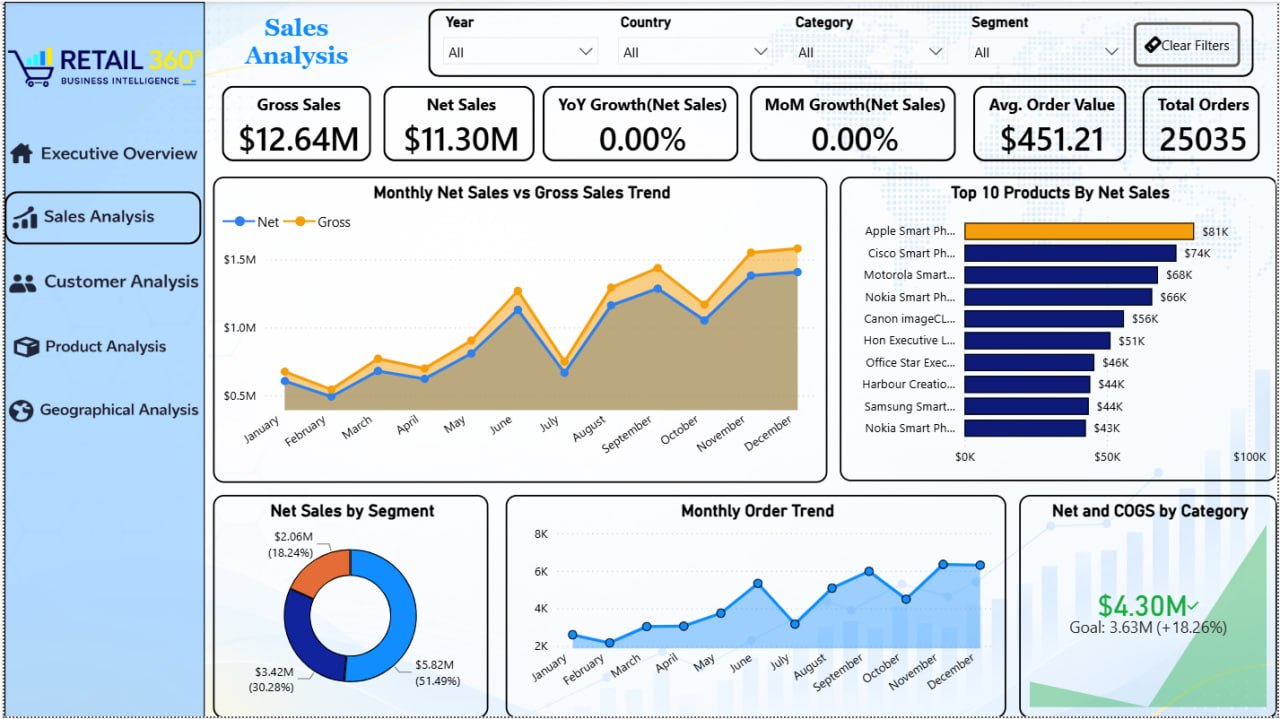

Layout of this report page (visuals, bound fields, positions):
{"tool":"powerbi","page":{"name":"Sales Analysis","canvas":[1280,720],"ordinal":1},"visuals":[{"type":"shape","box":[0,0,201.3,720],"z":1000},{"type":"shape","box":[0,190.5,198,53.6],"z":1500},{"type":"image","box":[0,13.7,201.3,105.8],"z":2000},{"type":"image","box":[-0.3,120.5,201.3,64.7],"z":3000},{"type":"image","box":[-0.3,185.1,201.3,64.7],"z":4000},{"type":"image","box":[-0.3,249.8,201.3,64.7],"z":5000},{"type":"image","box":[-0.3,379.1,201.3,64.7],"z":6000},{"type":"image","box":[-0.3,314.4,201.3,64.7],"z":7000},{"type":"cardVisual","fields":{"Data":["Measure_Table.Gross"]},"box":[201.6,67.2,184.8,110],"z":8000},{"type":"cardVisual","fields":{"Data":["Measure_Table.Net"]},"box":[364.4,67.6,186.6,110],"z":9000},{"type":"cardVisual","fields":{"Data":["Measure_Table.Net Sales YoY%"]},"box":[524.1,67.2,231.8,110],"z":10000},{"type":"cardVisual","fields":{"Data":["Measure_Table.Total Orders"]},"box":[1127.1,67.2,152.9,110],"z":11000},{"type":"cardVisual","fields":{"Data":["Measure_Table.Avg_order_value"]},"box":[957.5,67.2,188.1,110],"z":12000},{"type":"cardVisual","fields":{"Data":["Measure_Table.MoM Growth"]},"box":[732.4,67.2,241.9,110],"z":13000},{"type":"shape","box":[425.5,6.8,829.8,68.9],"z":14000},{"type":"slicer","fields":{"Values":["Customer.Country"]},"box":[606.7,6.8,176.4,68.9],"z":15000},{"type":"slicer","fields":{"Values":["DateTable.Year"]},"box":[430.7,6.8,176.3,57.3],"z":16000},{"type":"slicer","fields":{"Values":["Product.Category"]},"box":[782.7,6.8,176.4,68.9],"z":17000},{"type":"slicer","fields":{"Values":["Customer.Segment"]},"box":[958.7,6.8,176.4,68.9],"z":18000},{"type":"actionButton","box":[1134.7,20.5,107.5,45.4],"z":19000},{"type":"lineChart","title":"Monthly Net Sales vs Gross Sales Trend","fields":{"Category":["DateTable.Month Name"],"Y":["Measure_Table.Net","Measure_Table.Gross"]},"box":[210,176.4,618,308.1],"z":20000},{"type":"clusteredBarChart","title":"Top 10 Products By Net Sales","fields":{"Category":["Product.Product Name"],"Y":["Measure_Table.Net"]},"box":[839.9,176.4,440.2,306.4],"z":21000},{"type":"kpi","fields":{"Indicator":["Measure_Table.Net"],"Goal":["Measure_Table.COGS"],"TrendLine":["Product.Category"]},"box":[1019.6,495.5,260.4,225.1],"z":22000},{"type":"donutChart","title":"Net Sales by Segment","fields":{"Y":["Measure_Table.Net"],"Category":["Customer.Segment"],"Series":["Customer.Segment"]},"box":[210,495.5,277.2,225],"z":23000},{"type":"lineChart","title":"Monthly Order Trend","fields":{"Category":["DateTable.Month Name"],"Y":["Measure_Table.Orders"]},"box":[503.9,495.5,503.5,225],"z":24000},{"type":"textbox","box":[216.6,7,154.3,73.5],"z":25000}]}

Visuals, with their boxes in screenshot pixels (x1, y1, x2, y2), scaled from the page's 1280x720 canvas onto the 1280x719 screenshot:
shape: box=[0, 0, 201, 718]
shape: box=[0, 190, 198, 244]
image: box=[0, 14, 201, 119]
image: box=[0, 120, 201, 185]
image: box=[0, 185, 201, 249]
image: box=[0, 249, 201, 314]
image: box=[0, 379, 201, 443]
image: box=[0, 314, 201, 379]
cardVisual - Measure_Table.Gross: box=[202, 67, 386, 177]
cardVisual - Measure_Table.Net: box=[364, 68, 551, 177]
cardVisual - Measure_Table.Net Sales YoY%: box=[524, 67, 756, 177]
cardVisual - Measure_Table.Total Orders: box=[1127, 67, 1279, 177]
cardVisual - Measure_Table.Avg_order_value: box=[958, 67, 1146, 177]
cardVisual - Measure_Table.MoM Growth: box=[732, 67, 974, 177]
shape: box=[426, 7, 1255, 76]
slicer - Customer.Country: box=[607, 7, 783, 76]
slicer - DateTable.Year: box=[431, 7, 607, 64]
slicer - Product.Category: box=[783, 7, 959, 76]
slicer - Customer.Segment: box=[959, 7, 1135, 76]
actionButton: box=[1135, 20, 1242, 66]
"Monthly Net Sales vs Gross Sales Trend" lineChart: box=[210, 176, 828, 484]
"Top 10 Products By Net Sales" clusteredBarChart: box=[840, 176, 1279, 482]
kpi - Measure_Table.Net x Measure_Table.COGS: box=[1020, 495, 1279, 718]
"Net Sales by Segment" donutChart: box=[210, 495, 487, 718]
"Monthly Order Trend" lineChart: box=[504, 495, 1007, 718]
textbox: box=[217, 7, 371, 80]
